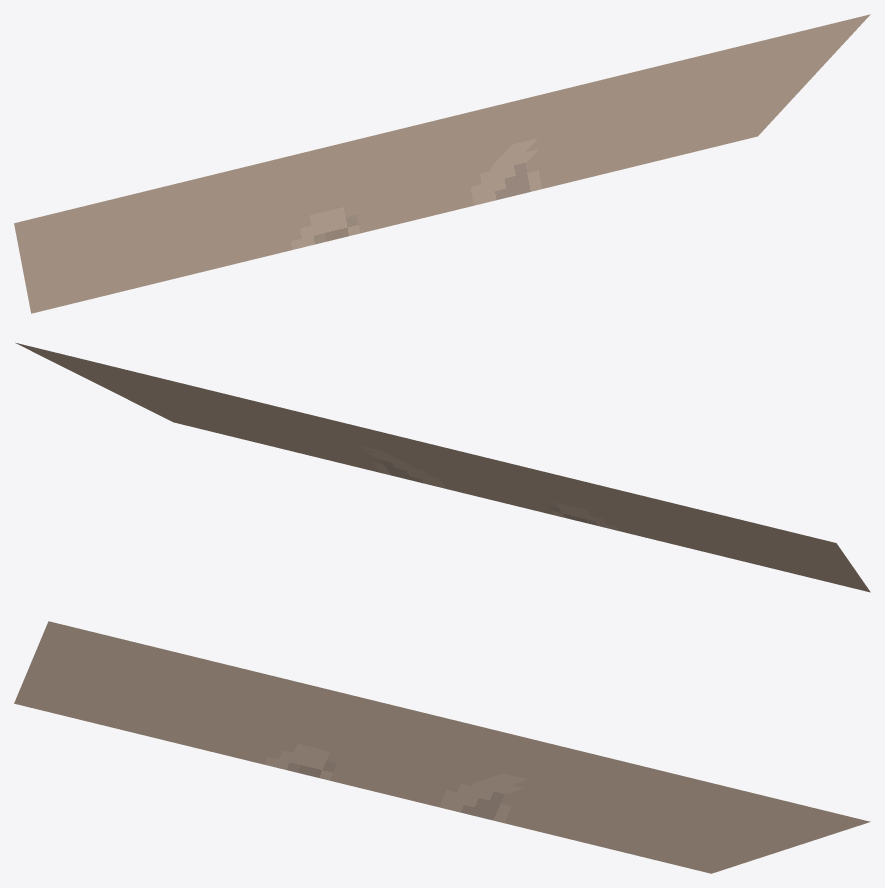
Rendered from kd_stage_135ded_4_52_bounded_piece_0.glb.
The picture shows the model from 3 angles, top to bottom: view 1: azimuth 30°, elevation 25°; view 2: azimuth 150°, elevation 25°; view 3: azimuth 330°, elevation 25°; orthographic projection. The views are drawn at different scales.
Visible parts, largest first — view 1: kd_stage_135ded_4_52_bounded_piece_0; view 2: kd_stage_135ded_4_52_bounded_piece_0; view 3: kd_stage_135ded_4_52_bounded_piece_0.
Boxes of the visible parts, <box> form: kd_stage_135ded_4_52_bounded_piece_0: <box>14,14,870,313</box>; kd_stage_135ded_4_52_bounded_piece_0: <box>15,342,870,592</box>; kd_stage_135ded_4_52_bounded_piece_0: <box>14,621,870,873</box>.
Bounding box in the file's own units: 0.2384 × 0.0181 × 0.0127.
Materials: 1 (1 with a texture image).
